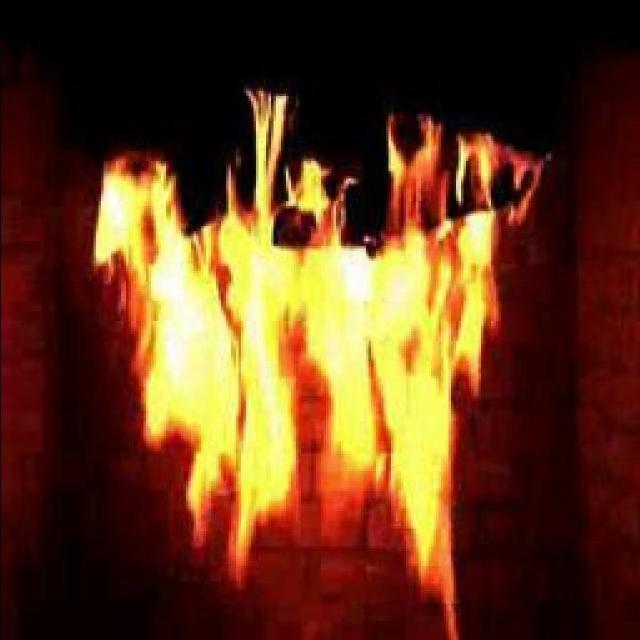Fire: (106, 167, 467, 599)
